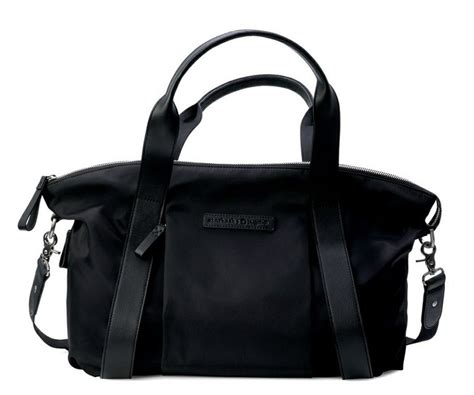nylon: (17, 162, 445, 381)
